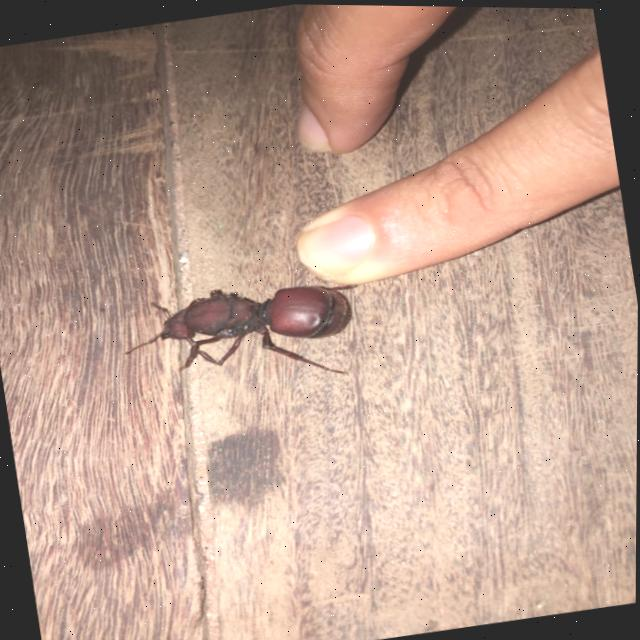Alive-Female-Dealate: (117, 265, 373, 408)
